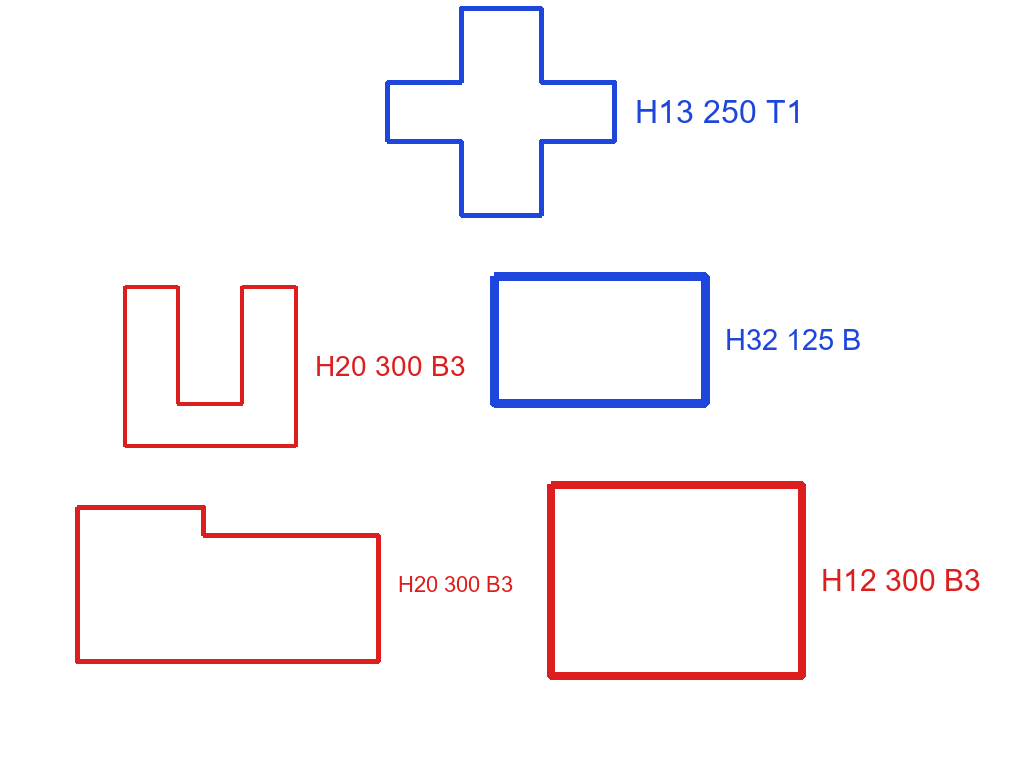shape: (546, 479, 807, 682), (383, 4, 619, 220), (73, 503, 383, 666), (488, 270, 712, 410), (121, 282, 299, 450)
text: (633, 98, 806, 125), (819, 567, 983, 593), (313, 354, 468, 378), (723, 327, 863, 352), (396, 574, 515, 594)
